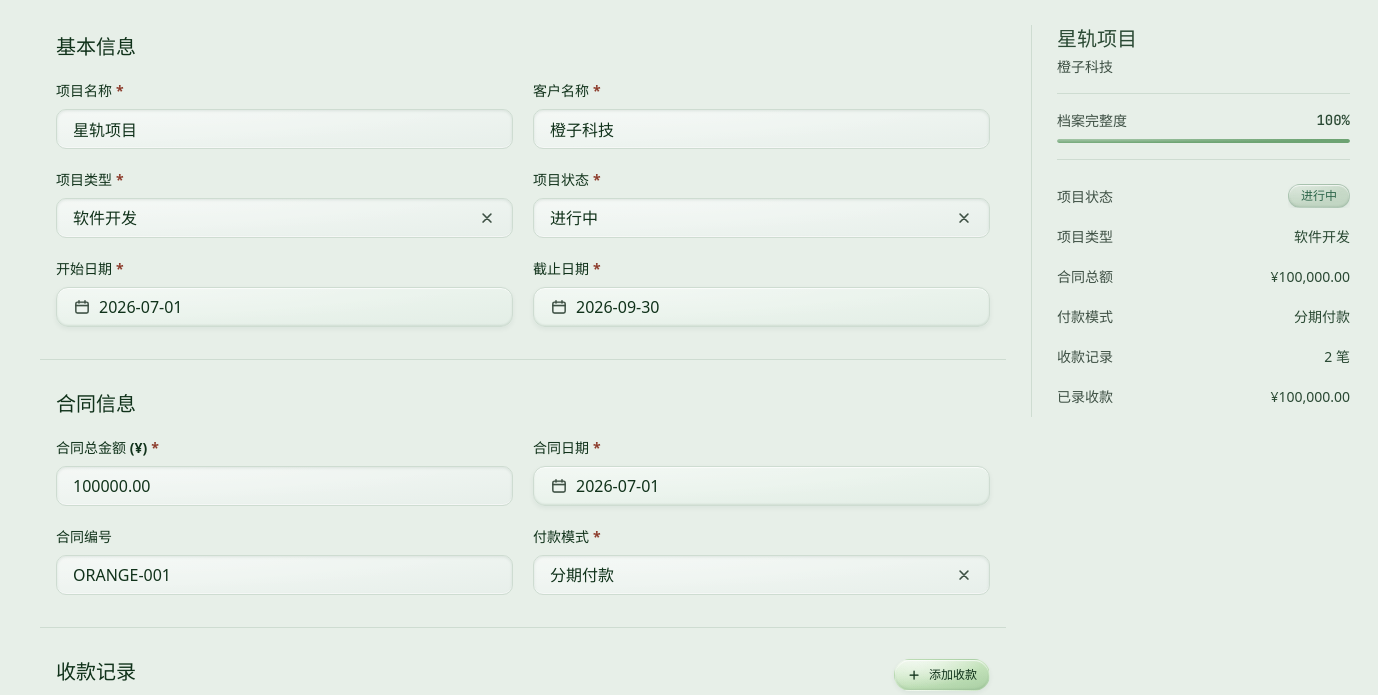
Test case: ProjectCreateView design system migration › clears the payment mode without changing or relabelling installment drafts
Click the button named "清除付款模式". click: (964, 575)
box: [950,561,978,589]
(page scrolled)
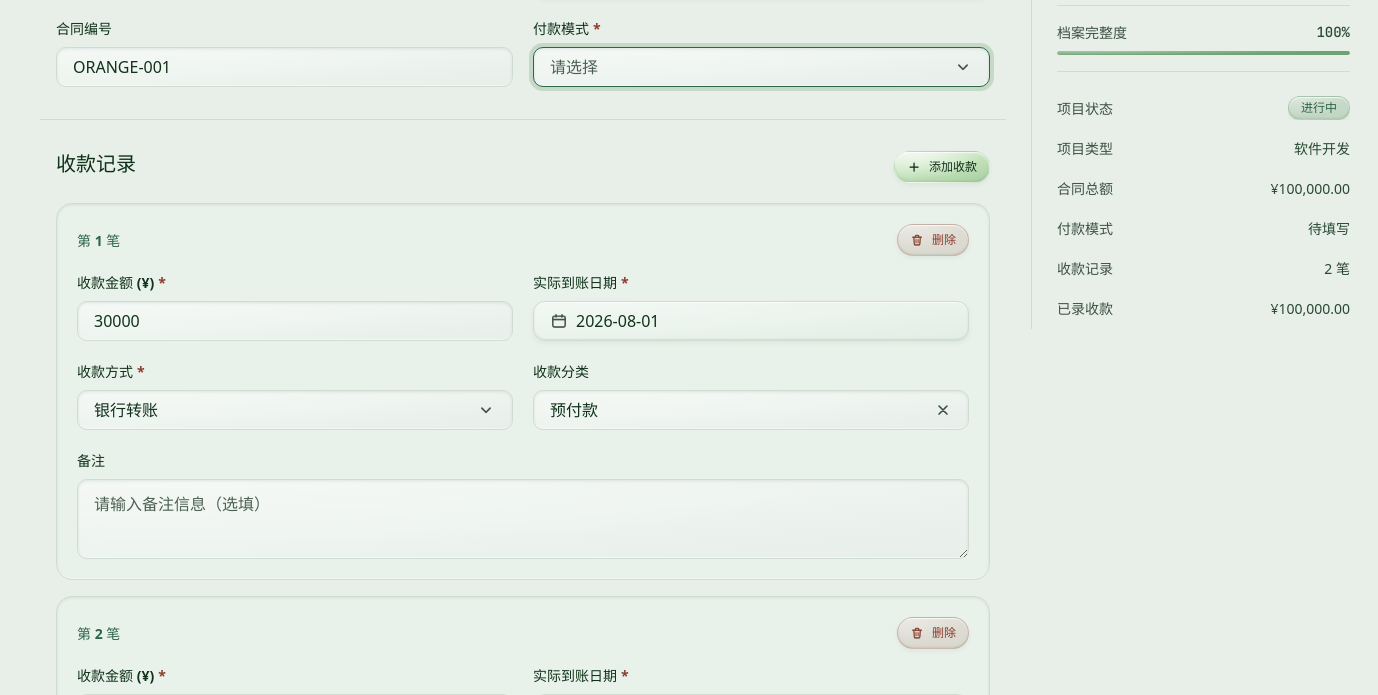
Expected: the button "添加收款" is shown, [894,151,990,183]
Expected: the button with aria-label "付款模式" reads "请选择", [533,47,990,87]
